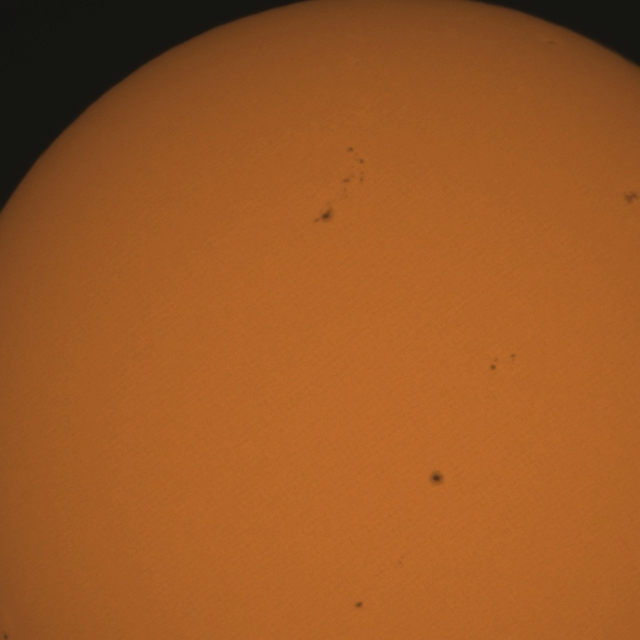sunspot: (341, 150, 366, 188), (490, 352, 516, 372), (313, 205, 334, 225), (346, 146, 365, 167), (622, 188, 640, 205), (428, 470, 445, 487), (489, 357, 500, 372), (354, 600, 364, 610), (1, 631, 10, 640), (509, 353, 517, 363)
